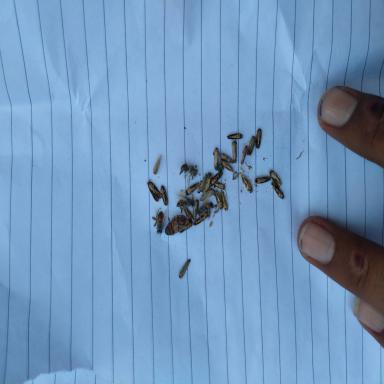pbw: (146, 179, 161, 203), (178, 258, 190, 281), (271, 182, 285, 200), (240, 174, 252, 195), (184, 182, 200, 197), (209, 170, 223, 187), (178, 219, 193, 234), (269, 170, 282, 186), (194, 212, 208, 226), (153, 154, 162, 175), (214, 189, 223, 210), (200, 188, 214, 201), (198, 173, 207, 193), (160, 184, 168, 206), (220, 190, 228, 211), (219, 153, 234, 164), (204, 172, 212, 192), (220, 160, 233, 172), (247, 136, 255, 155), (182, 205, 192, 219), (240, 145, 247, 165), (232, 140, 238, 163), (254, 176, 271, 184), (193, 199, 199, 221), (213, 148, 219, 169), (255, 128, 261, 149), (227, 133, 243, 139), (214, 182, 226, 190)
